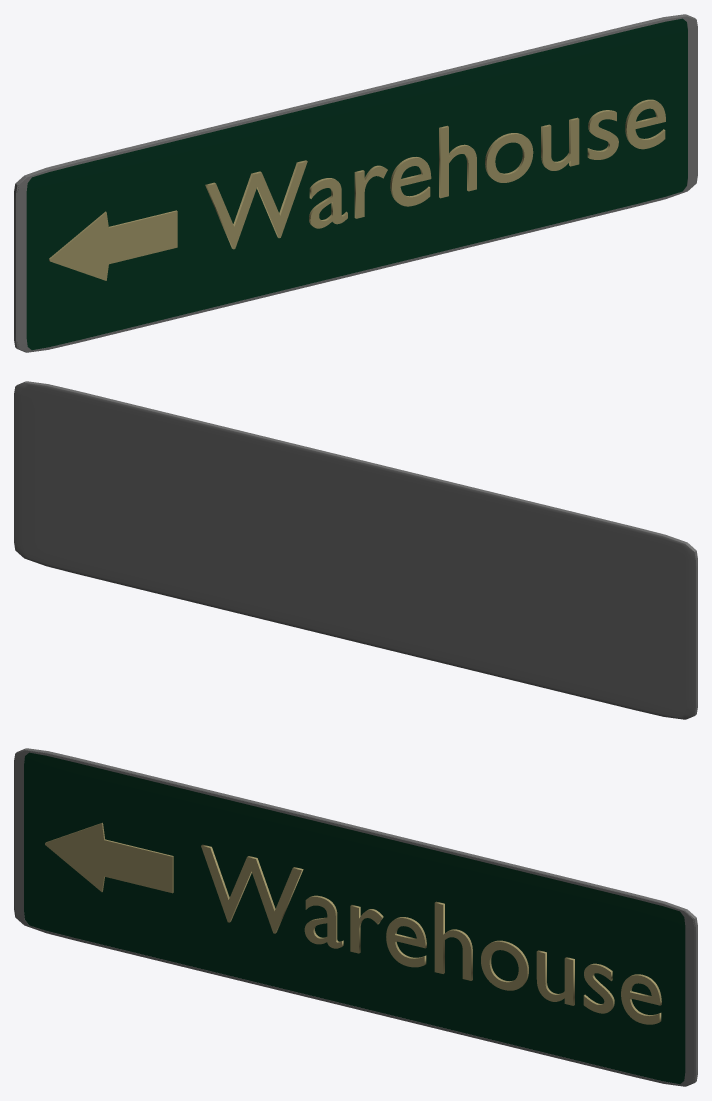
The model's file is warehouse to the left (2).fbx.
3 renders of one model, top to bottom at view 1: azimuth 30°, elevation 25°; view 2: azimuth 150°, elevation 25°; view 3: azimuth 330°, elevation 25°, orthographic.
Parts seen in each view (by area): view 1: Cube.001, Text.004, Cube.003; view 2: Cube.001; view 3: Cube.001, Text.004, Cube.003.
Part boxes in pixels (x1,y1,x2,y2): Cube.001: (14,14,697,352); Text.004: (205,99,665,249); Cube.003: (49,210,177,280); Cube.001: (14,381,697,719); Cube.001: (14,748,697,1086); Text.004: (201,844,661,1024); Cube.003: (45,822,173,893).
Bounding box in the file's own units: 1504 × 382 × 15.99.
